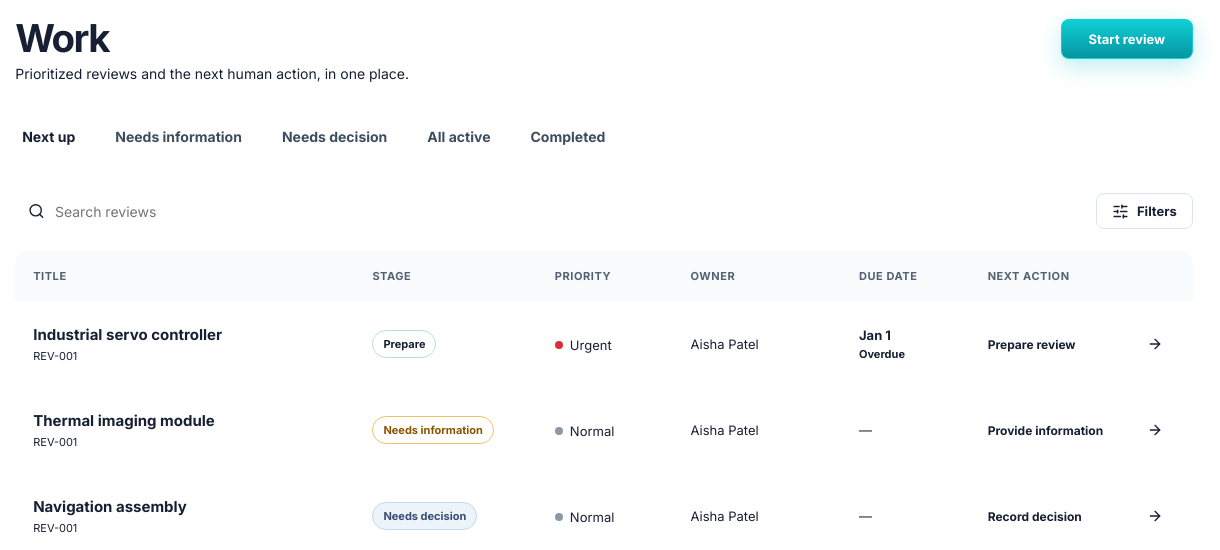
WorkView › uses the five clear queues without mixing completed work into Next up
The image size is (1220, 550).
Expected: the text "Composite sample" is not shown
Click the button "Needs information": (178, 137) [108,112,249,161]
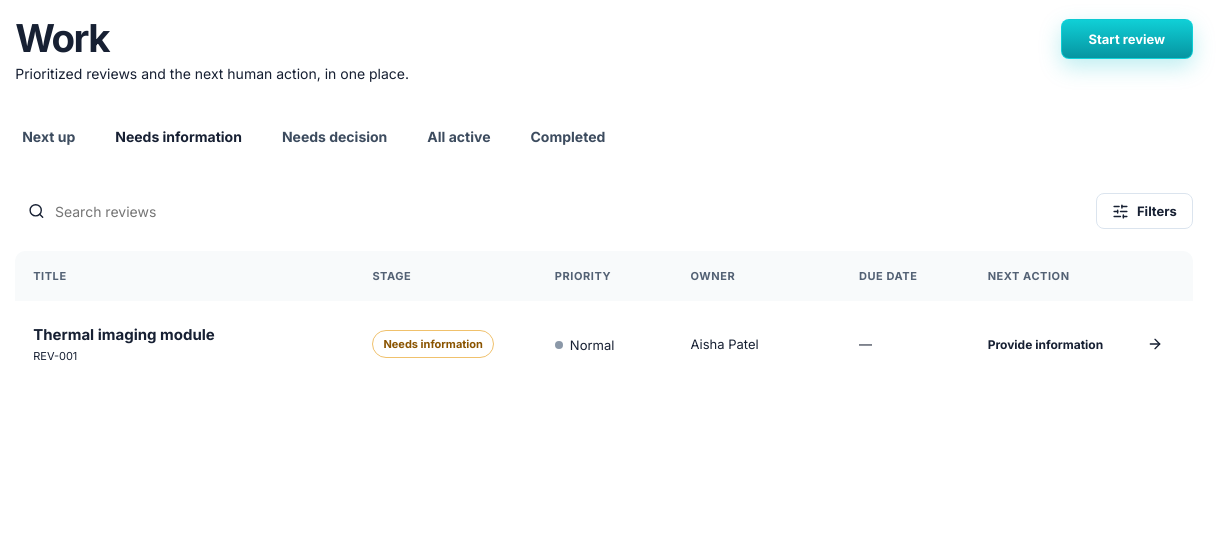
Expected: the text "Thermal imaging module" is shown, [33,326,215,344]
Now the button "Navigation assembly" is gone
Click the button "Needs decision": (335, 137) [275,112,394,161]
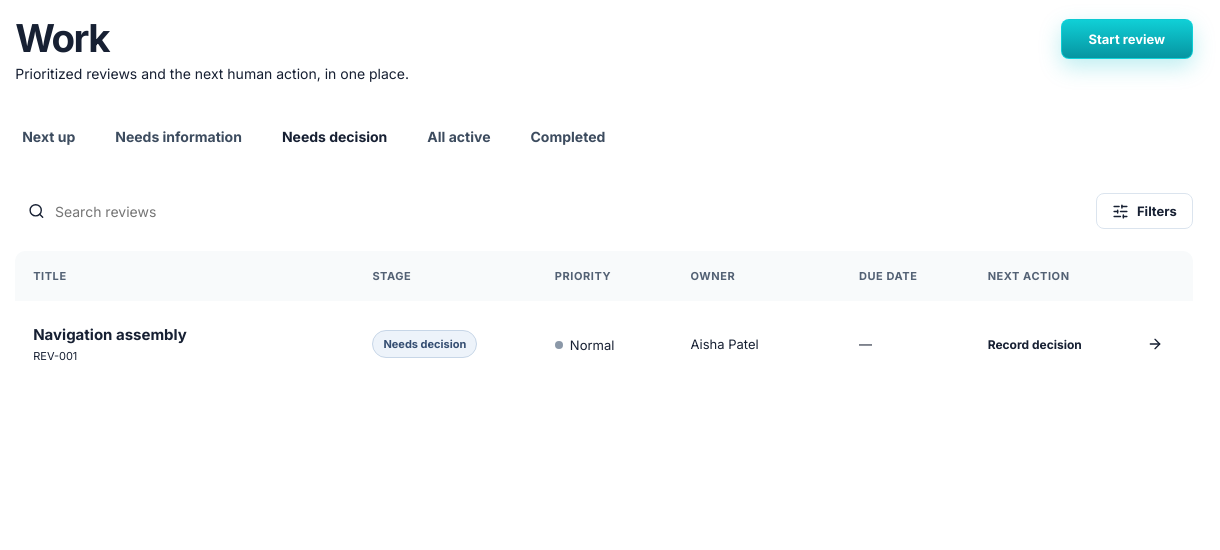
Now the text "Navigation assembly" is shown, box [33,326,187,344]
Click the button "Completed": (568, 137) [524,112,612,161]
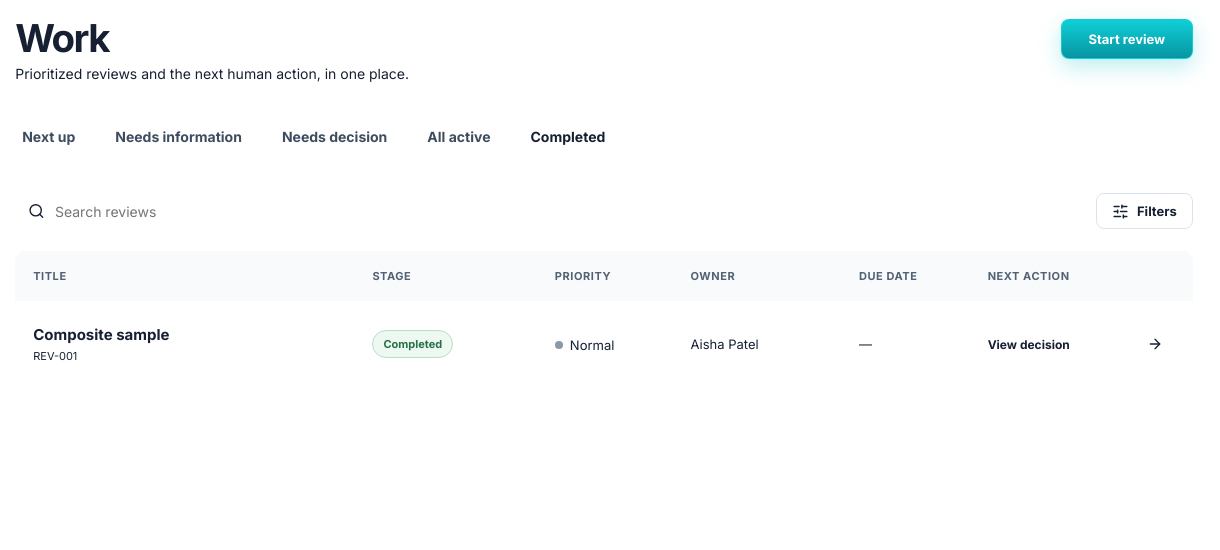
Now the text "Composite sample" is shown, box [33,326,169,344]
